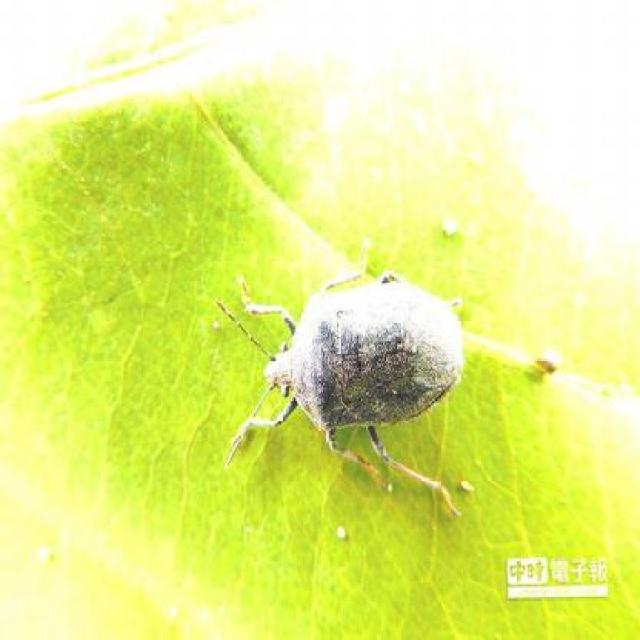rice-bug: (228, 248, 480, 492)
